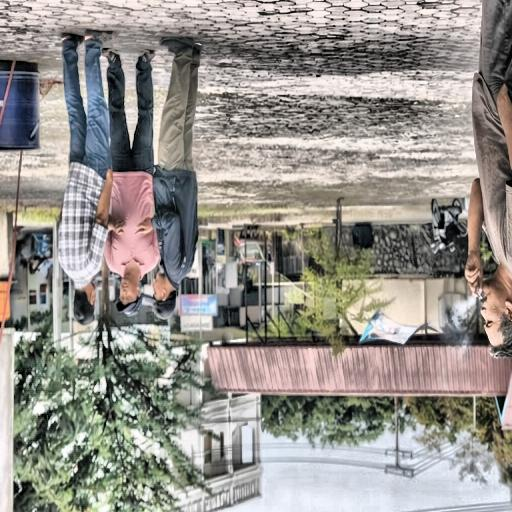Rokok: (445, 266, 512, 340)
